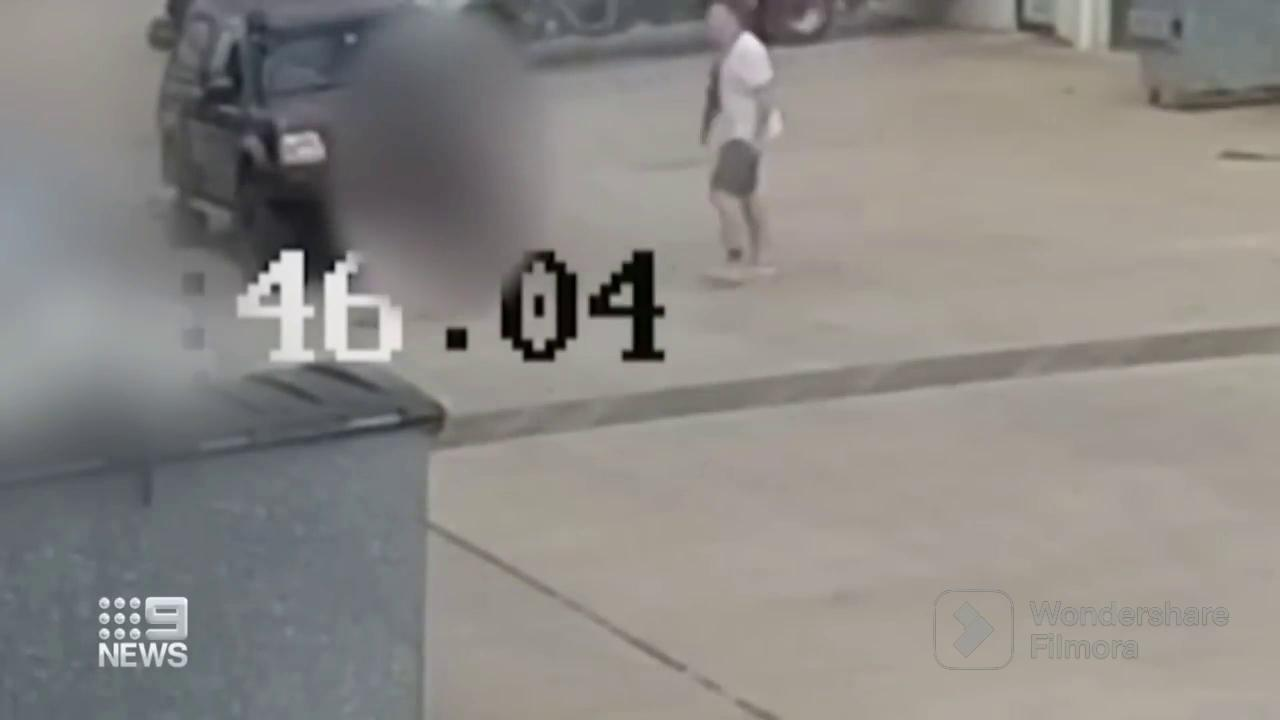gun: (698, 64, 724, 149)
